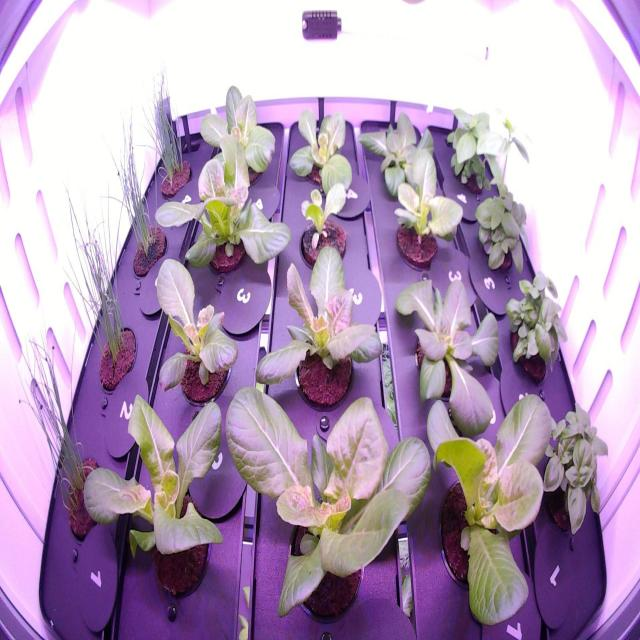young: (211, 362, 436, 632), (70, 379, 240, 607), (410, 376, 556, 630), (150, 128, 296, 296), (243, 236, 390, 402), (384, 249, 504, 444), (134, 249, 250, 418), (192, 73, 285, 221), (382, 145, 464, 274), (353, 95, 444, 204), (281, 98, 361, 210), (287, 177, 358, 280)
